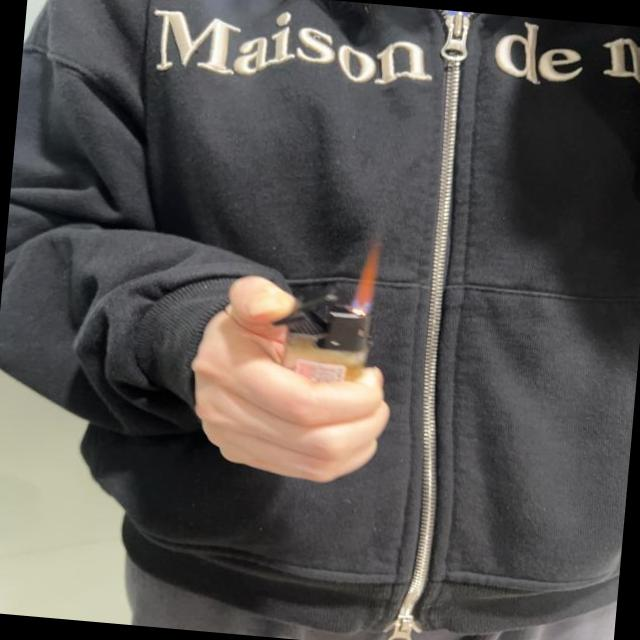Fire: (346, 237, 382, 313)
